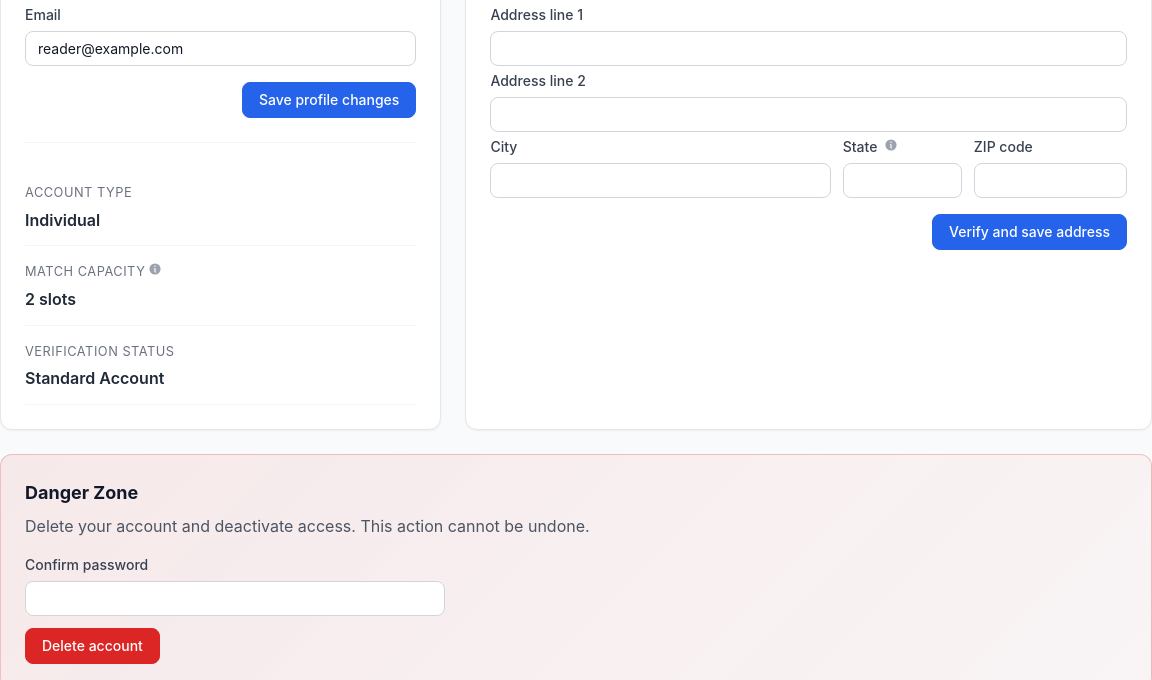
AccountSettings page › shows password required error when delete is clicked with no password
The width and height of the screenshot is (1152, 680).
(page scrolled)
Expected: the heading "Danger Zone" is shown, [25,482,138,503]
Click the button "Delete account" at (92, 646), box [25,628,160,664]
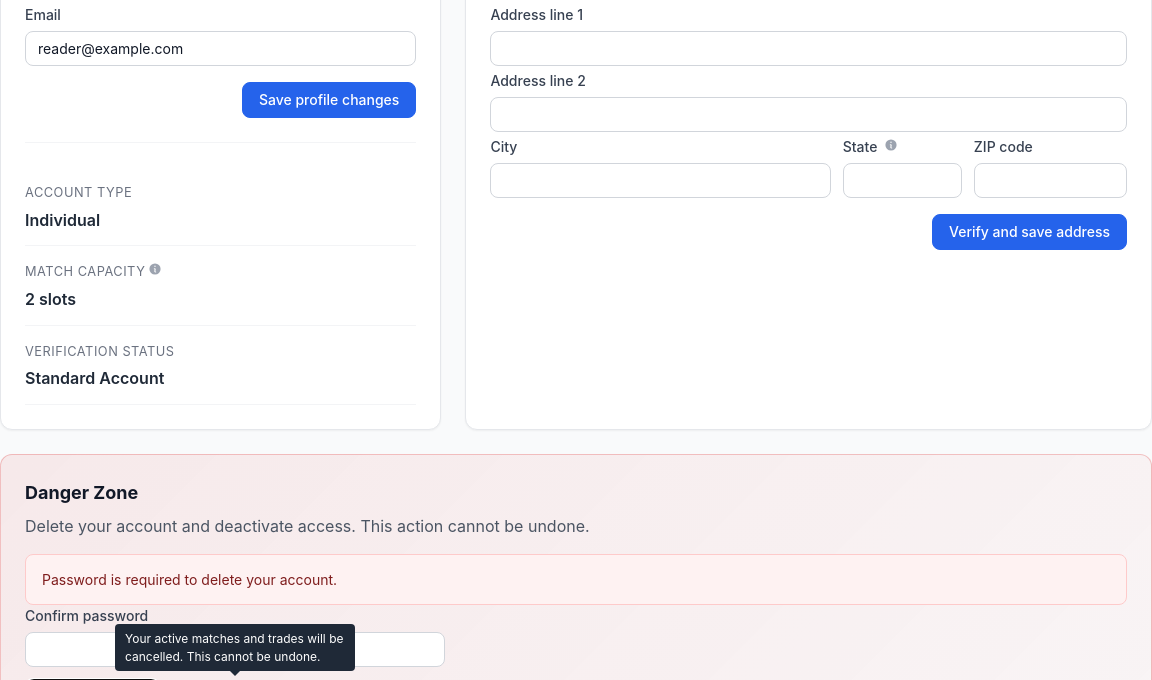
Expected: the text "Password is required to delete your account." is shown, [25,554,1127,605]
